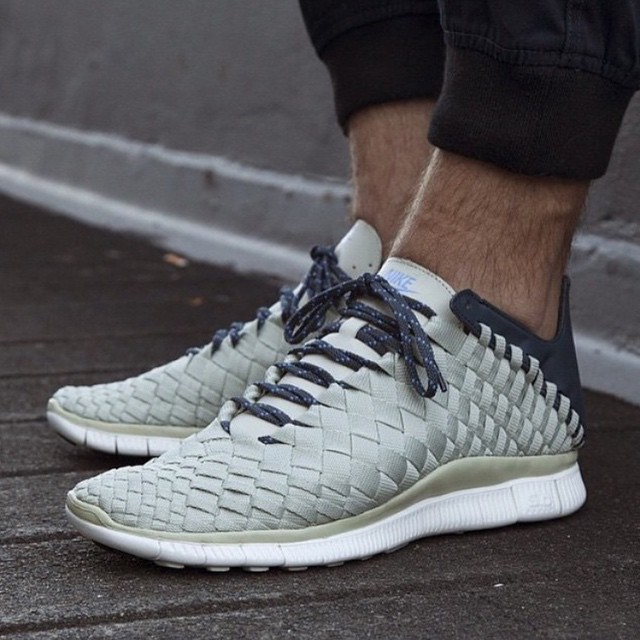sneaker: (46, 210, 619, 602), (33, 211, 458, 462)
